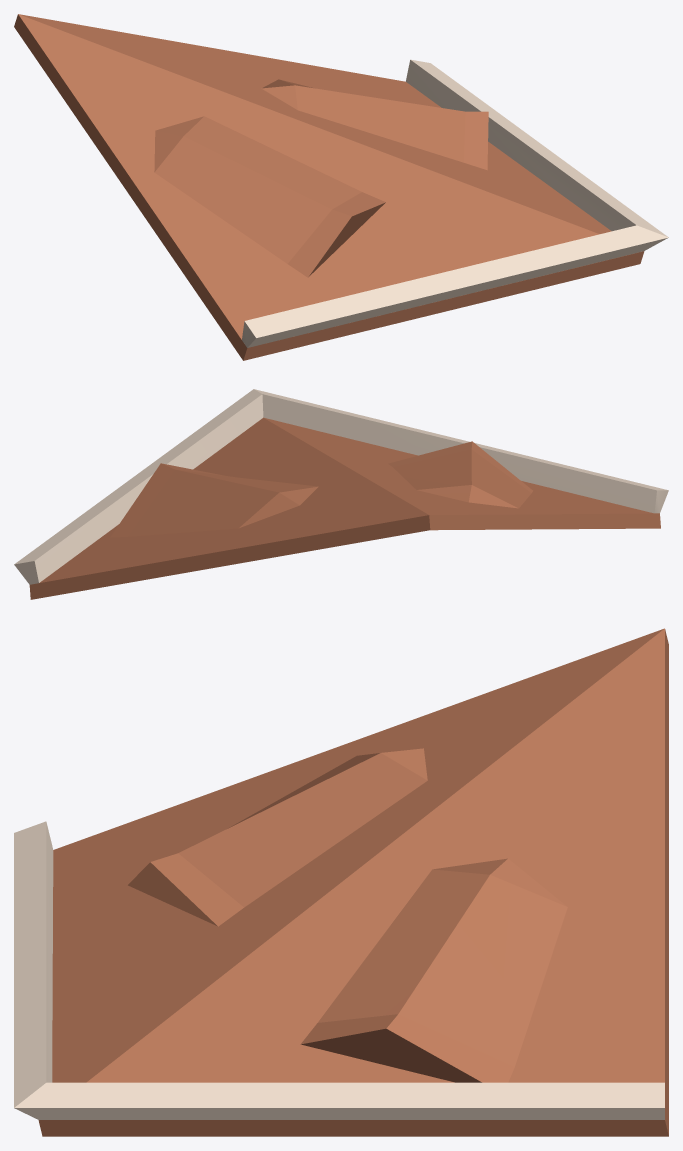
The model's file is empire-roof-out-edge-small-1m-rim-empire.glb.
The picture shows the model from 3 angles, top to bottom: view 1: azimuth 30°, elevation 25°; view 2: azimuth 150°, elevation 25°; view 3: azimuth 270°, elevation 25°; orthographic projection. The views are drawn at different scales.
Parts seen in each view (by area): view 1: SM_Roof_Out_Edge_Small_1m_Rim_Empire; view 2: SM_Roof_Out_Edge_Small_1m_Rim_Empire; view 3: SM_Roof_Out_Edge_Small_1m_Rim_Empire.
Boxes of the visible parts, bbox=[...] form: SM_Roof_Out_Edge_Small_1m_Rim_Empire: bbox=[14, 14, 668, 360]; SM_Roof_Out_Edge_Small_1m_Rim_Empire: bbox=[14, 389, 668, 599]; SM_Roof_Out_Edge_Small_1m_Rim_Empire: bbox=[14, 628, 668, 1136].
Size of the model in its own units: 1.57 by 0.6484 by 1.57.
